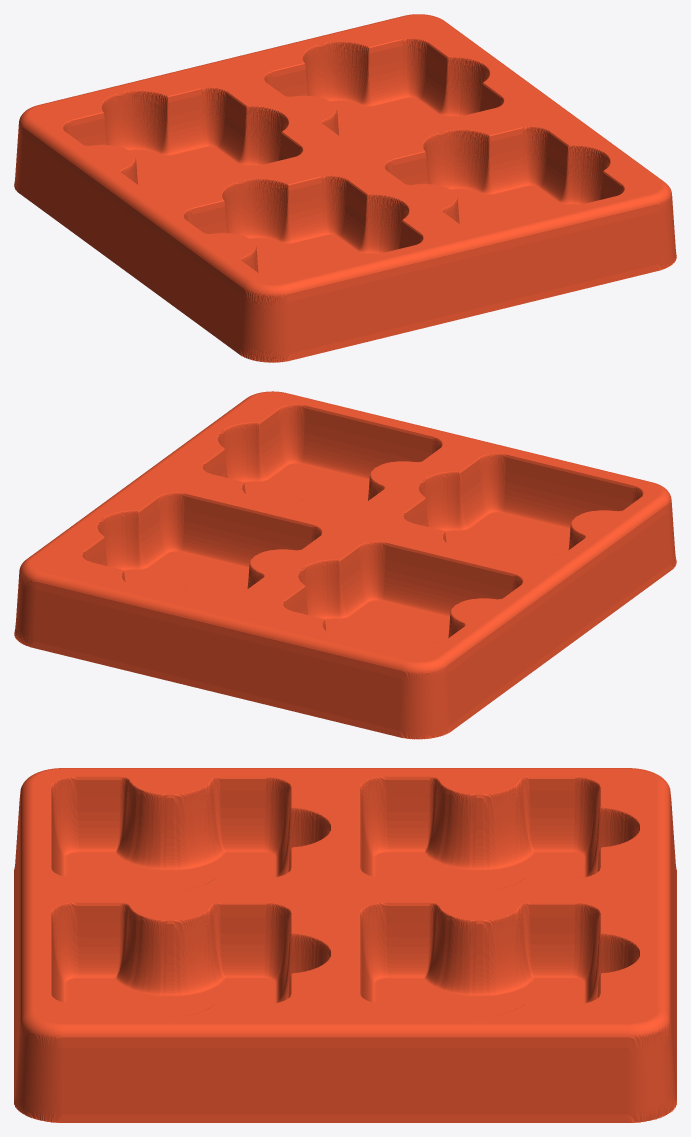
Rendered from mold.glb.
3 renders of one model, top to bottom at view 1: azimuth 30°, elevation 25°; view 2: azimuth 150°, elevation 25°; view 3: azimuth 270°, elevation 25°, orthographic. The views are drawn at different scales.
Parts seen in each view (by area): view 1: geometry_0; view 2: geometry_0; view 3: geometry_0.
Part boxes in pixels (<box>): geometry_0: <box>14,14,676,362</box>; geometry_0: <box>14,391,676,739</box>; geometry_0: <box>14,768,676,1122</box>.
Size of the model in its own units: 0.1177 by 0.0185 by 0.1218.
